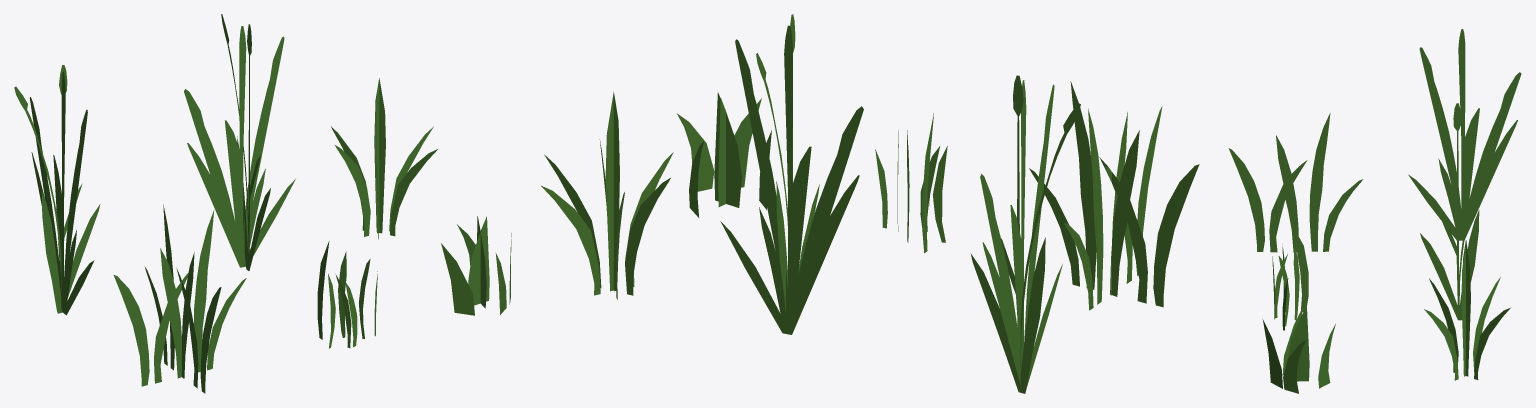
File: grassfixd.fbx
3 renders of one model, left to right at view 1: azimuth 30°, elevation 25°; view 2: azimuth 150°, elevation 25°; view 3: azimuth 270°, elevation 25°, orthographic. The views are drawn at different scales.
Visible parts, largest first — view 1: Plane.001, Plane.012, Plane, Plane.003, Plane.011, Plane.014; view 2: Plane.001, Plane.012, Plane, Plane.003, Plane.011, Plane.014; view 3: Plane, Plane.012, Plane.003, Plane.011, Plane.001, Plane.014.
Boxes of the visible parts, <box> form: Plane.001: <box>184,14,295,270</box>; Plane.012: <box>113,204,246,393</box>; Plane: <box>14,65,100,315</box>; Plane.003: <box>331,78,437,239</box>; Plane.011: <box>441,216,511,315</box>; Plane.014: <box>317,241,377,348</box>; Plane.001: <box>720,14,863,334</box>; Plane.012: <box>1029,81,1199,310</box>; Plane: <box>970,75,1080,393</box>; Plane.003: <box>541,91,673,299</box>; Plane.011: <box>677,92,771,217</box>; Plane.014: <box>875,113,947,253</box>; Plane: <box>1408,29,1521,240</box>; Plane.012: <box>1228,113,1363,252</box>; Plane.003: <box>1424,240,1510,380</box>; Plane.011: <box>1262,306,1335,393</box>; Plane.001: <box>1420,103,1506,320</box>; Plane.014: <box>1272,222,1308,330</box>.
Size of the model in its own units: 892 by 506 by 615.
